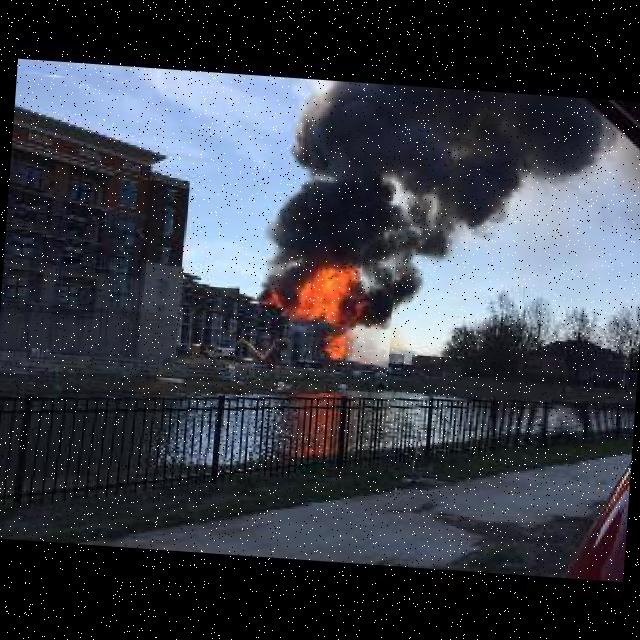fire: (234, 202, 399, 372)
